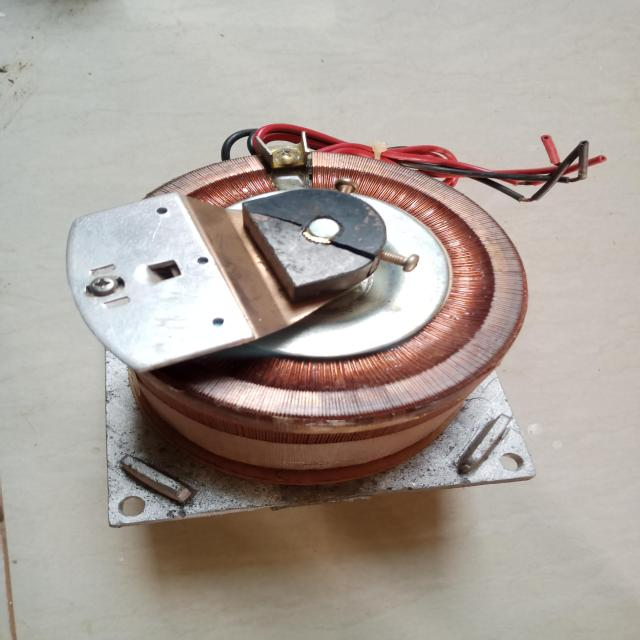AC Transformer: (54, 128, 546, 490)
